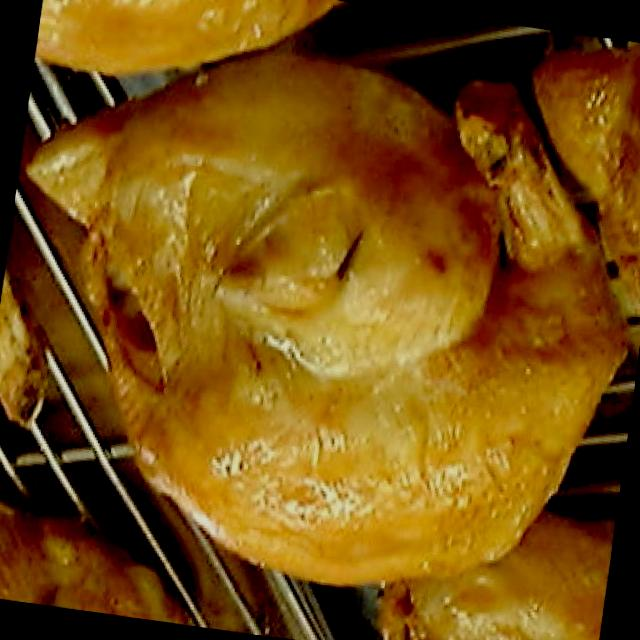Chicken: (0, 28, 640, 640)
